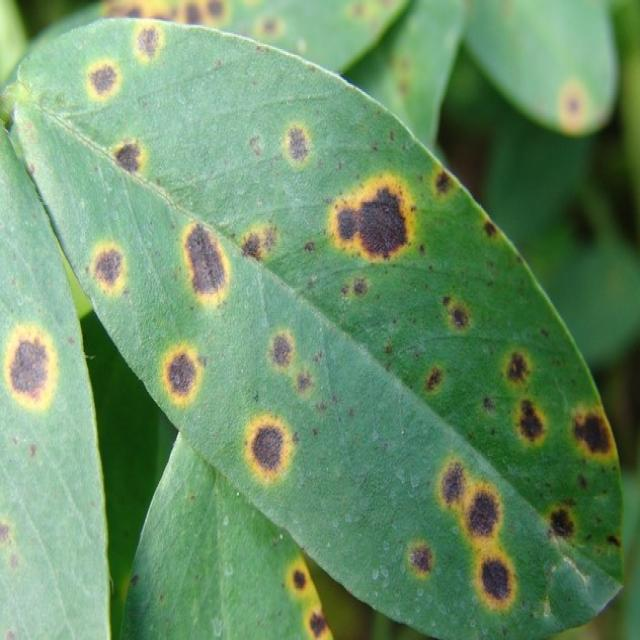Enfermedad-Mancha-de-hierro: (0, 18, 625, 640)
